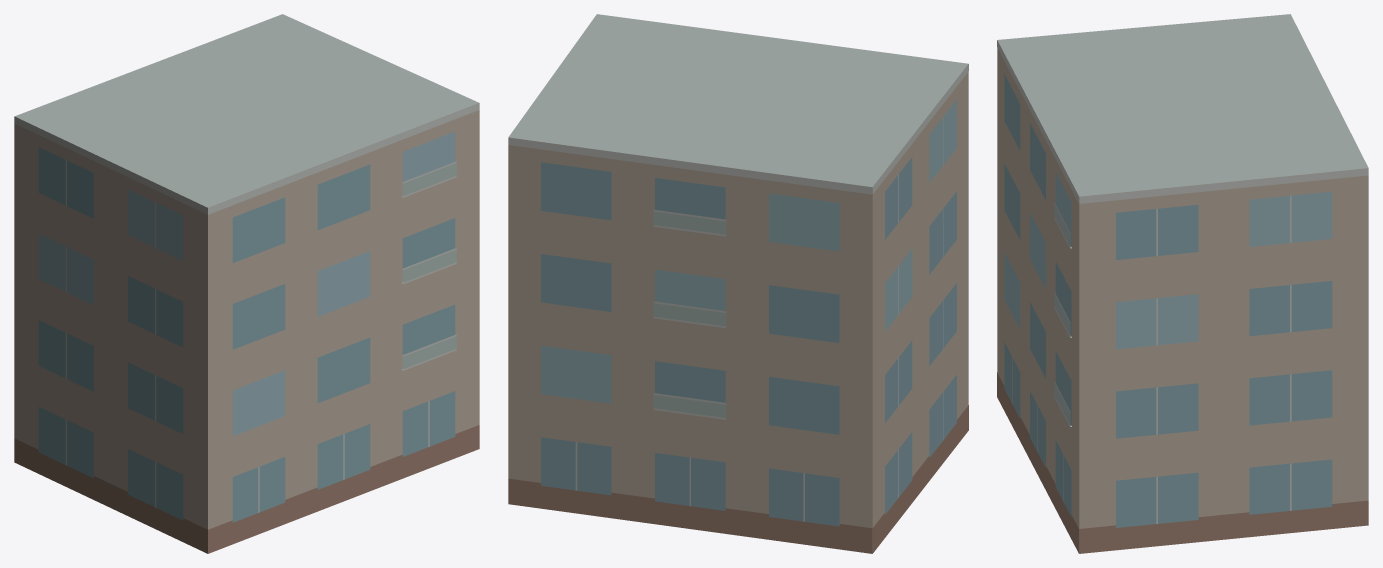
The model's file is survey-upis-32824838.glb.
The picture shows the model from 3 angles, left to right: view 1: azimuth 30°, elevation 25°; view 2: azimuth 150°, elevation 25°; view 3: azimuth 270°, elevation 25°; orthographic projection. The views are drawn at different scales.
Visible parts, largest first — view 1: survey-upis-32824838.tmp; view 2: survey-upis-32824838.tmp; view 3: survey-upis-32824838.tmp.
Part boxes in pixels (x1,y1,x2,y2): survey-upis-32824838.tmp: (14, 14, 479, 553); survey-upis-32824838.tmp: (508, 14, 968, 553); survey-upis-32824838.tmp: (997, 14, 1368, 553).
Size of the model in its own units: 13.17 by 12 by 11.32.
